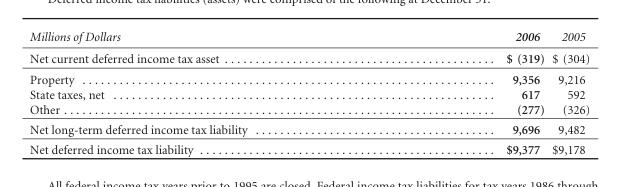table: (29, 29, 589, 156)
table column: (29, 29, 376, 156), (376, 29, 547, 156), (547, 29, 589, 156)
table column header: (29, 29, 589, 47)
table row: (29, 47, 589, 68), (29, 119, 589, 139), (29, 29, 589, 47), (29, 68, 589, 86), (29, 101, 589, 119), (29, 139, 589, 156), (29, 86, 589, 101)
